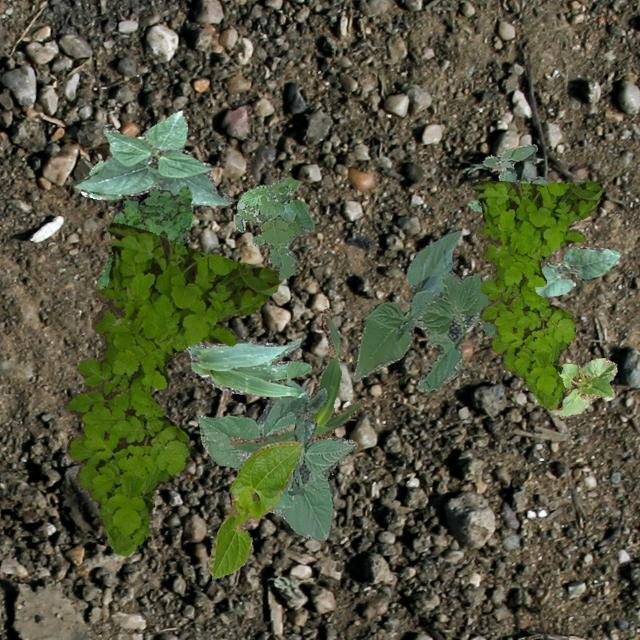crop: (196, 378, 357, 540), (352, 228, 496, 390), (228, 306, 366, 452), (74, 110, 230, 204), (206, 441, 302, 578), (184, 338, 310, 398), (534, 246, 620, 298), (554, 357, 616, 418), (294, 388, 326, 446), (80, 160, 122, 200)
weed: (64, 222, 278, 554), (470, 180, 600, 408), (95, 184, 194, 288), (234, 175, 314, 278), (469, 142, 545, 210)
